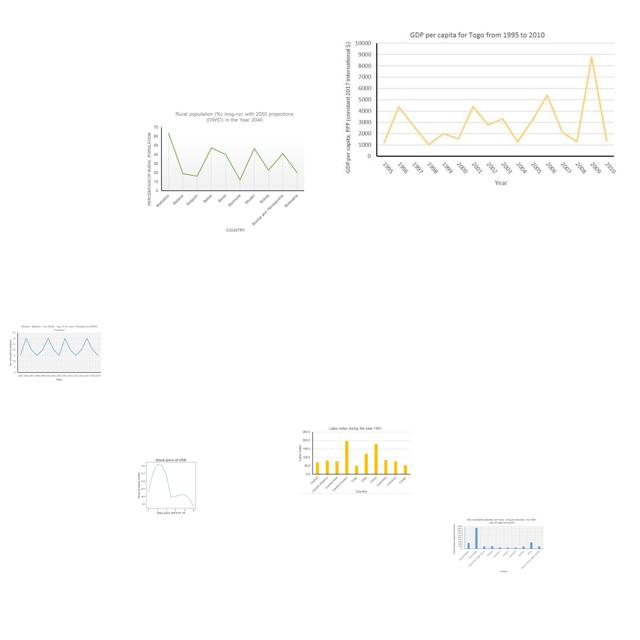Graph: (342, 27, 619, 188), (146, 109, 306, 233), (298, 426, 412, 494), (5, 324, 103, 382), (452, 517, 545, 574), (130, 455, 210, 515)
